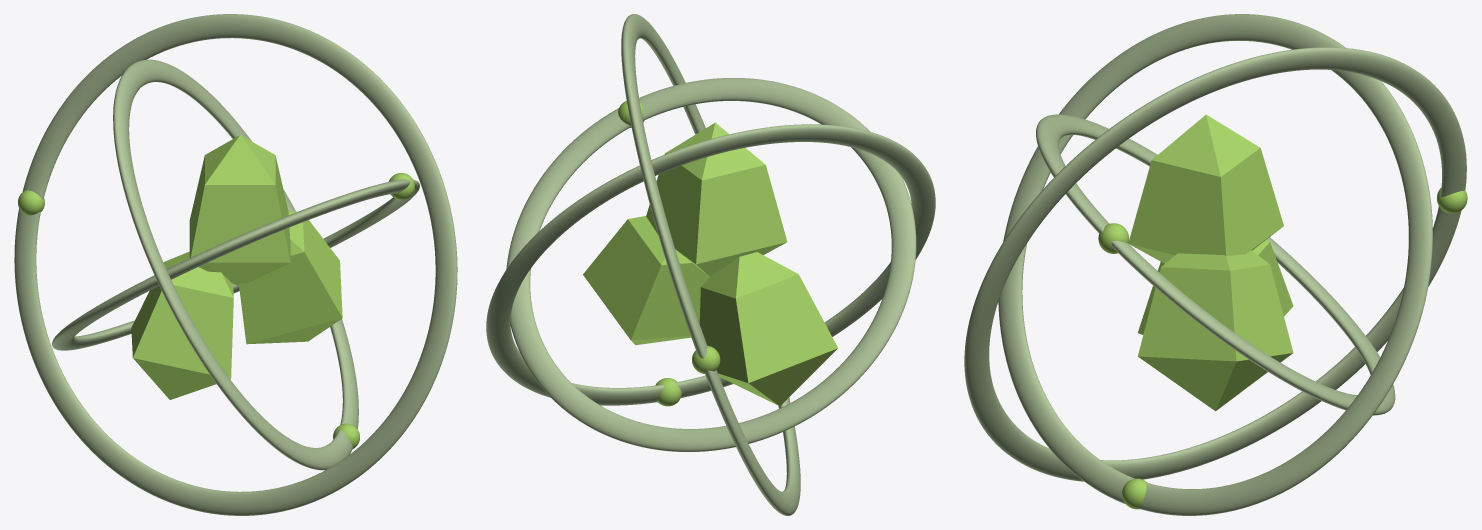
3 renders of one model, left to right at view 1: azimuth 30°, elevation 25°; view 2: azimuth 150°, elevation 25°; view 3: azimuth 270°, elevation 25°, orthographic. The views are drawn at different scales.
Size of the model in its own units: 0.9518 by 1.13 by 1.06.
